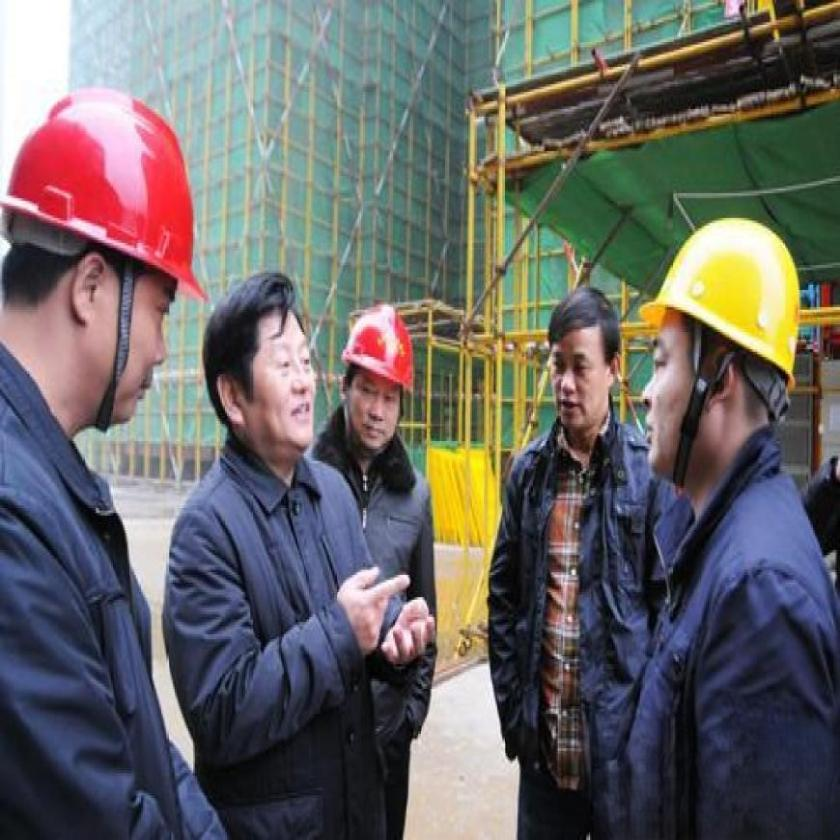Con_casco: (0, 82, 198, 460), (633, 194, 815, 491), (336, 291, 424, 456)
Sin_casco: (213, 283, 319, 471), (528, 268, 617, 434)
